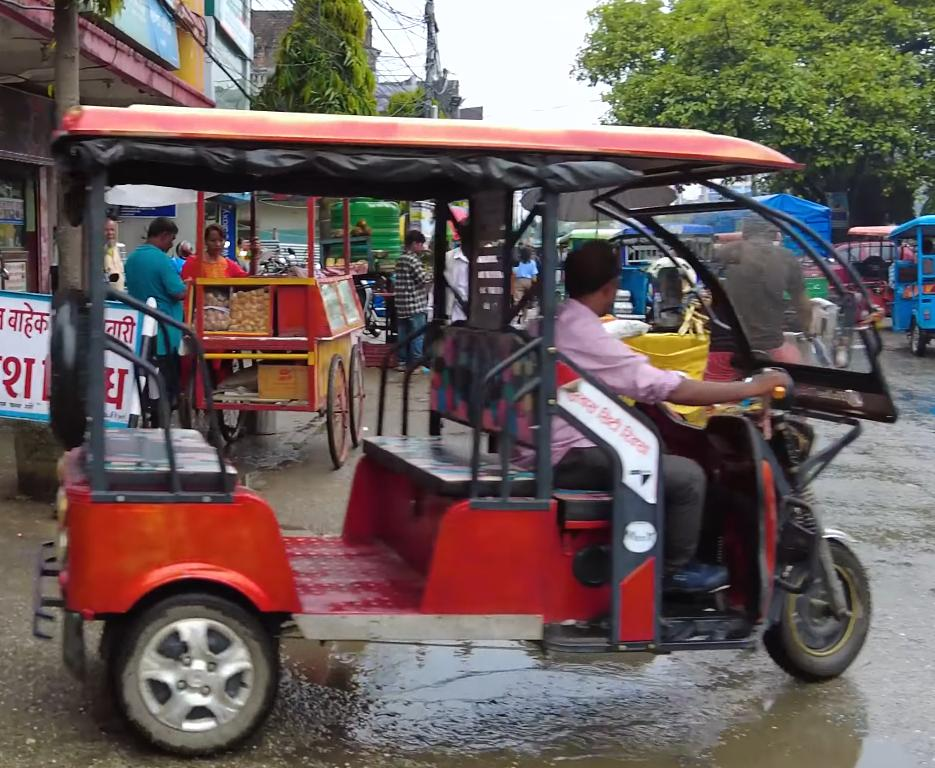e-rickshaw: (38, 87, 893, 768)
